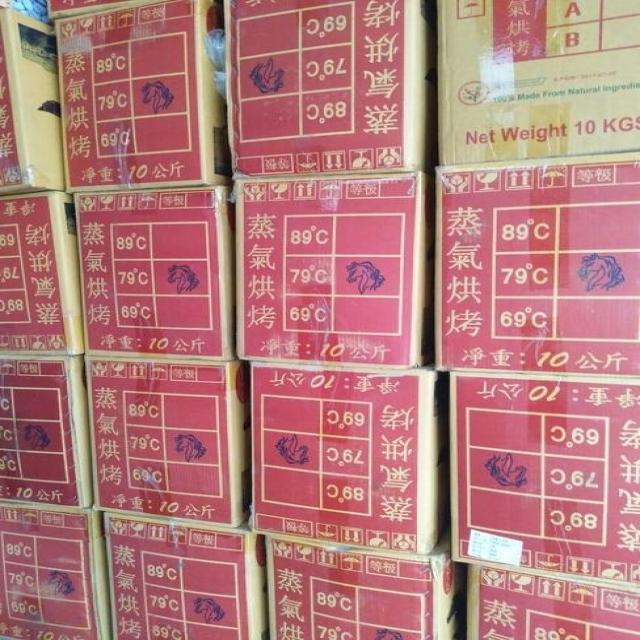box: (436, 153, 639, 378), (451, 373, 639, 585), (235, 173, 437, 367), (252, 362, 449, 556), (223, 2, 429, 179), (50, 1, 236, 189), (432, 0, 639, 166), (89, 350, 252, 526), (74, 185, 234, 361), (101, 513, 271, 639), (264, 538, 465, 639), (0, 503, 109, 638), (0, 191, 84, 356), (0, 357, 89, 510), (465, 564, 639, 638), (0, 8, 68, 194)
